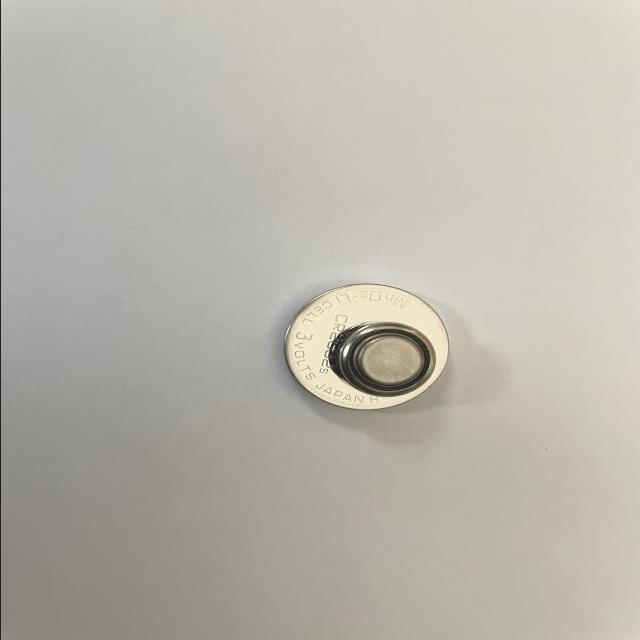COIN: (281, 281, 448, 416), (329, 321, 434, 398)
